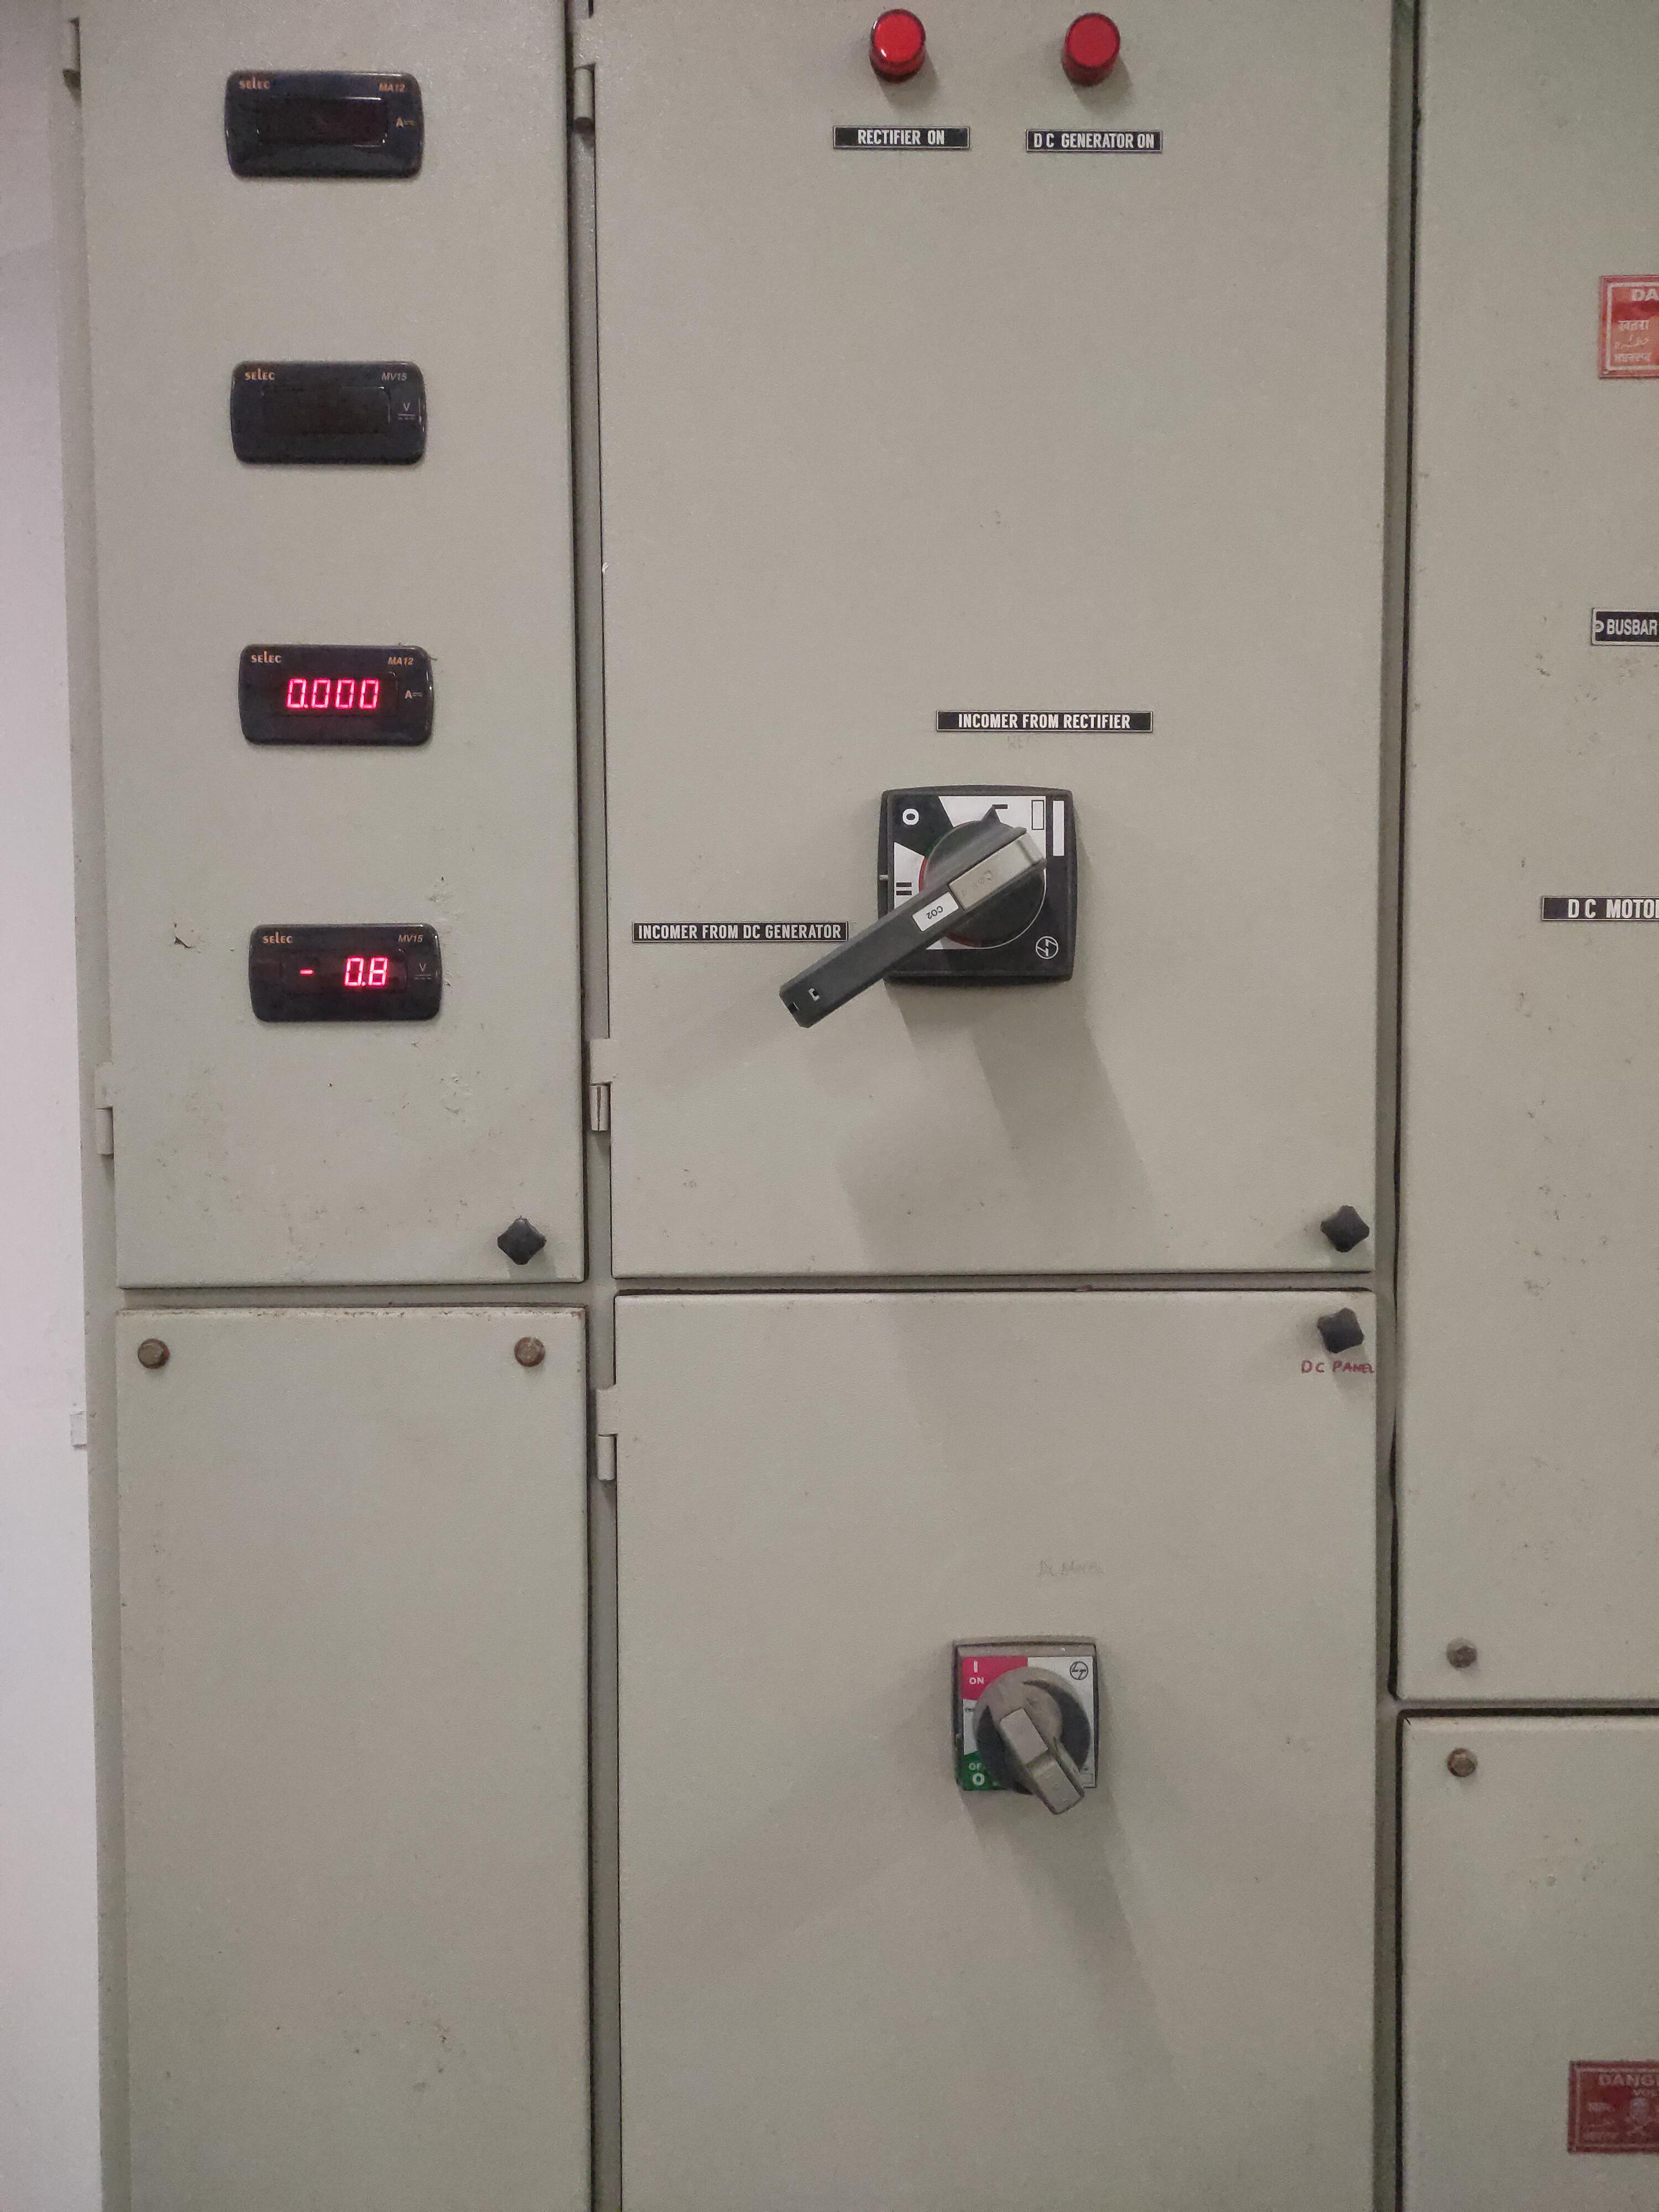Knob 1: (746, 745, 1129, 1092)
Knob 2: (927, 1608, 1134, 1843)
Light Indications: (803, 5, 1208, 172)
